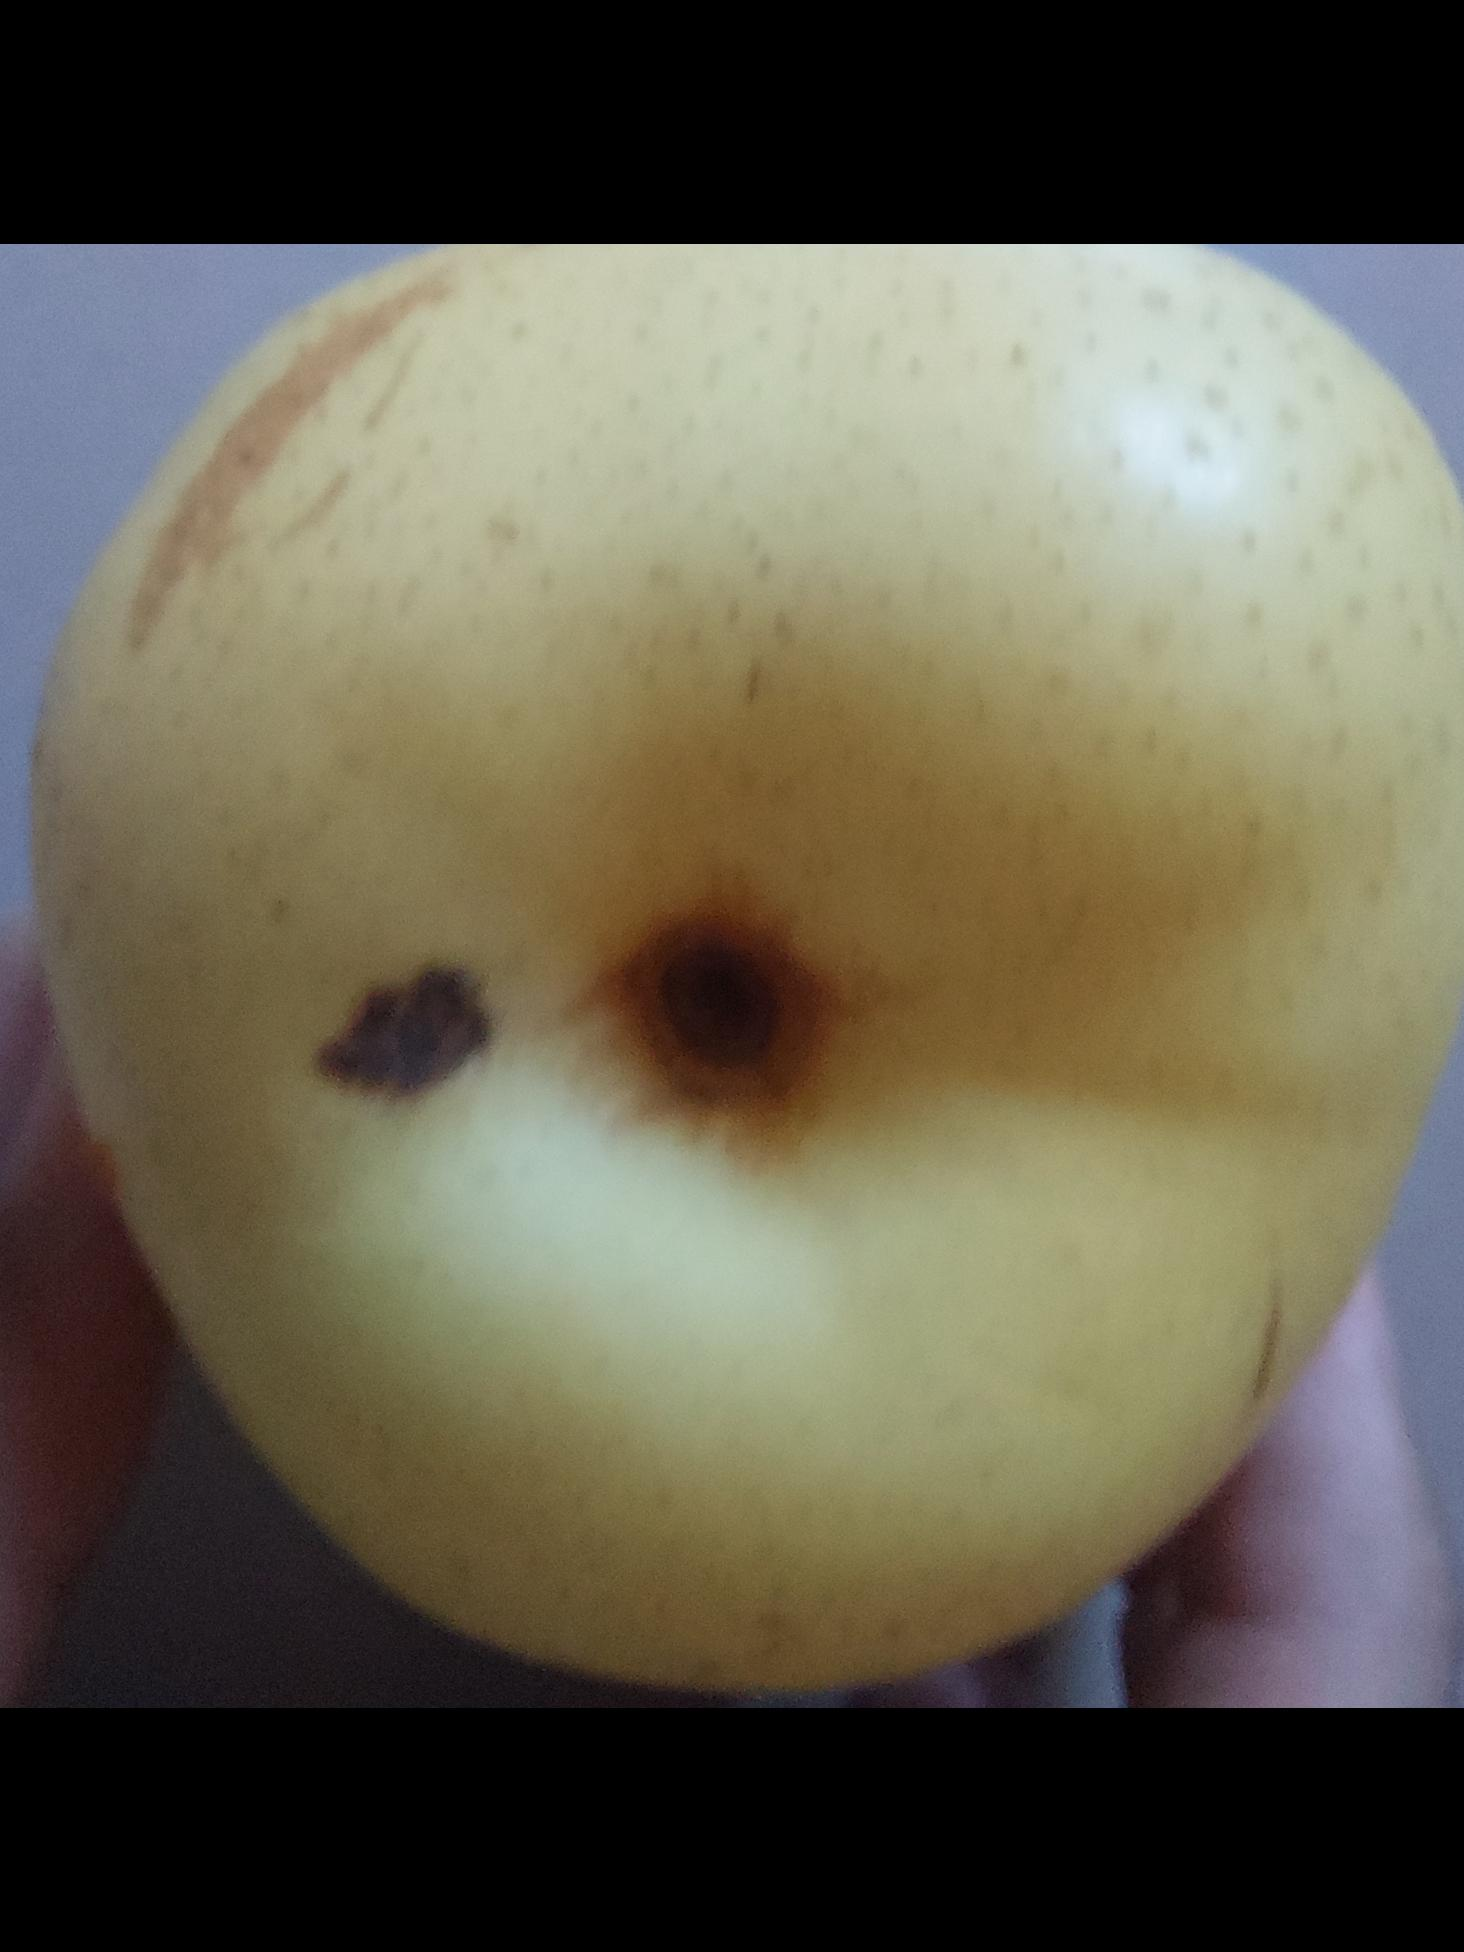Good Pear: (18, 244, 1464, 1708)
